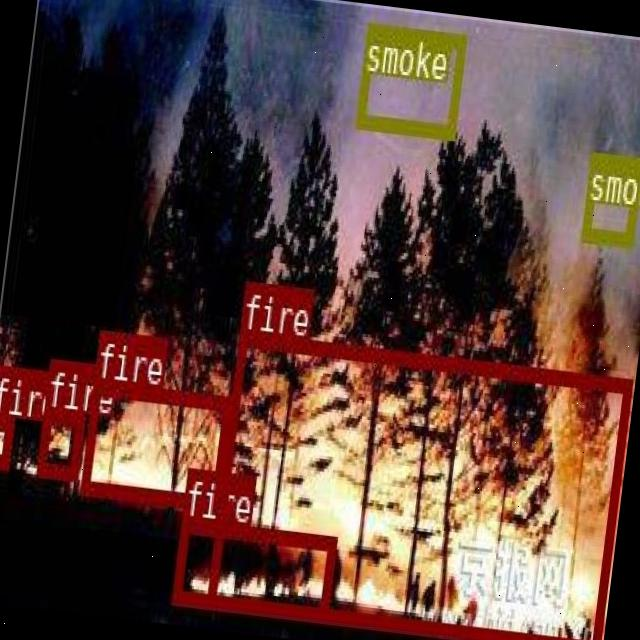fire: (204, 330, 631, 640), (80, 378, 230, 508), (170, 517, 336, 618), (34, 408, 82, 477), (0, 411, 13, 466)
smoke: (356, 20, 464, 134), (579, 150, 640, 244)
